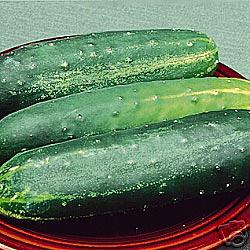cucumber: (1, 111, 249, 228), (0, 77, 249, 163), (0, 28, 220, 108)
